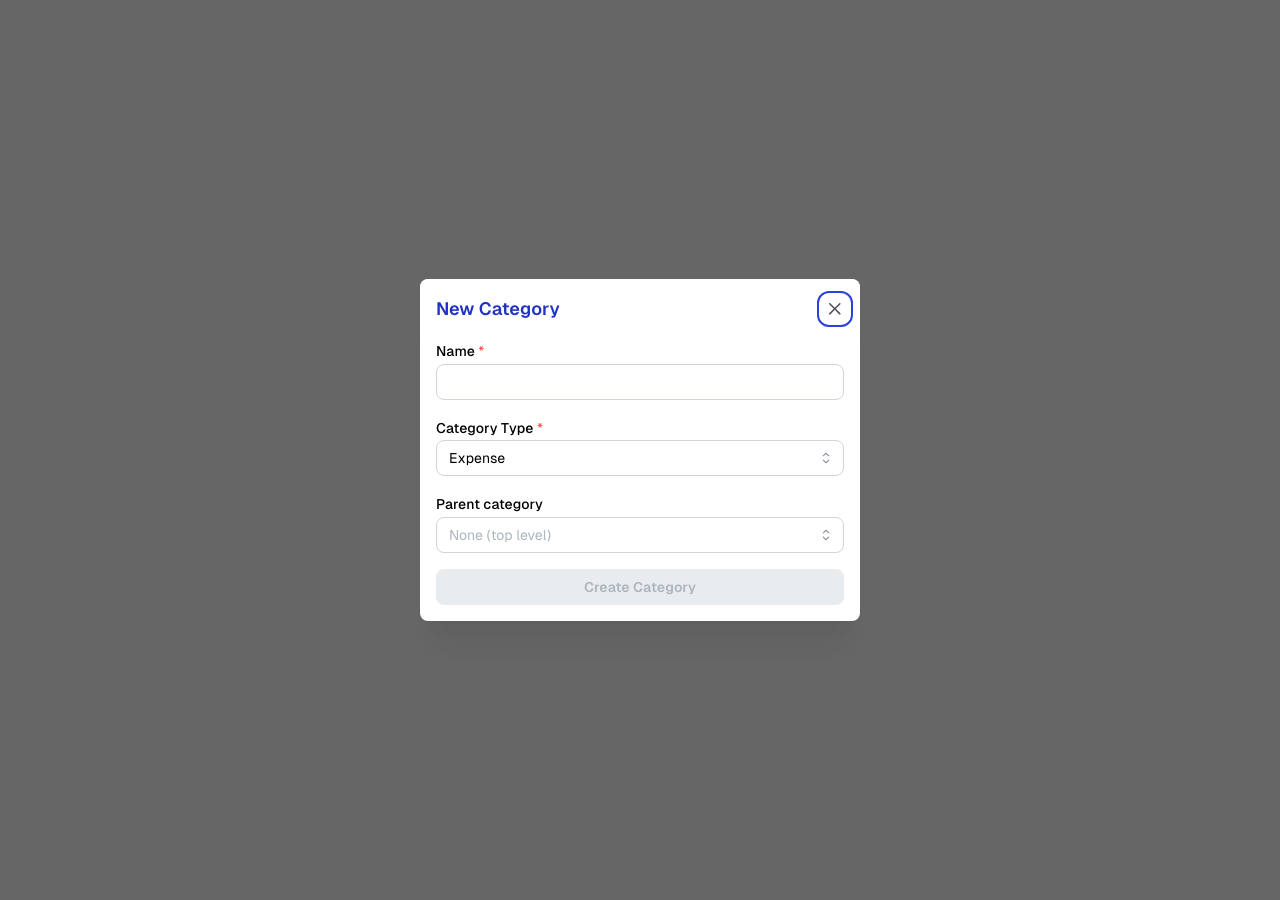
CreateCategoryModal › shows the server error and keeps the form open
The image size is (1280, 900).
In the field labelled "Name *": (640, 382) [436,364,844,400], type "Dup"
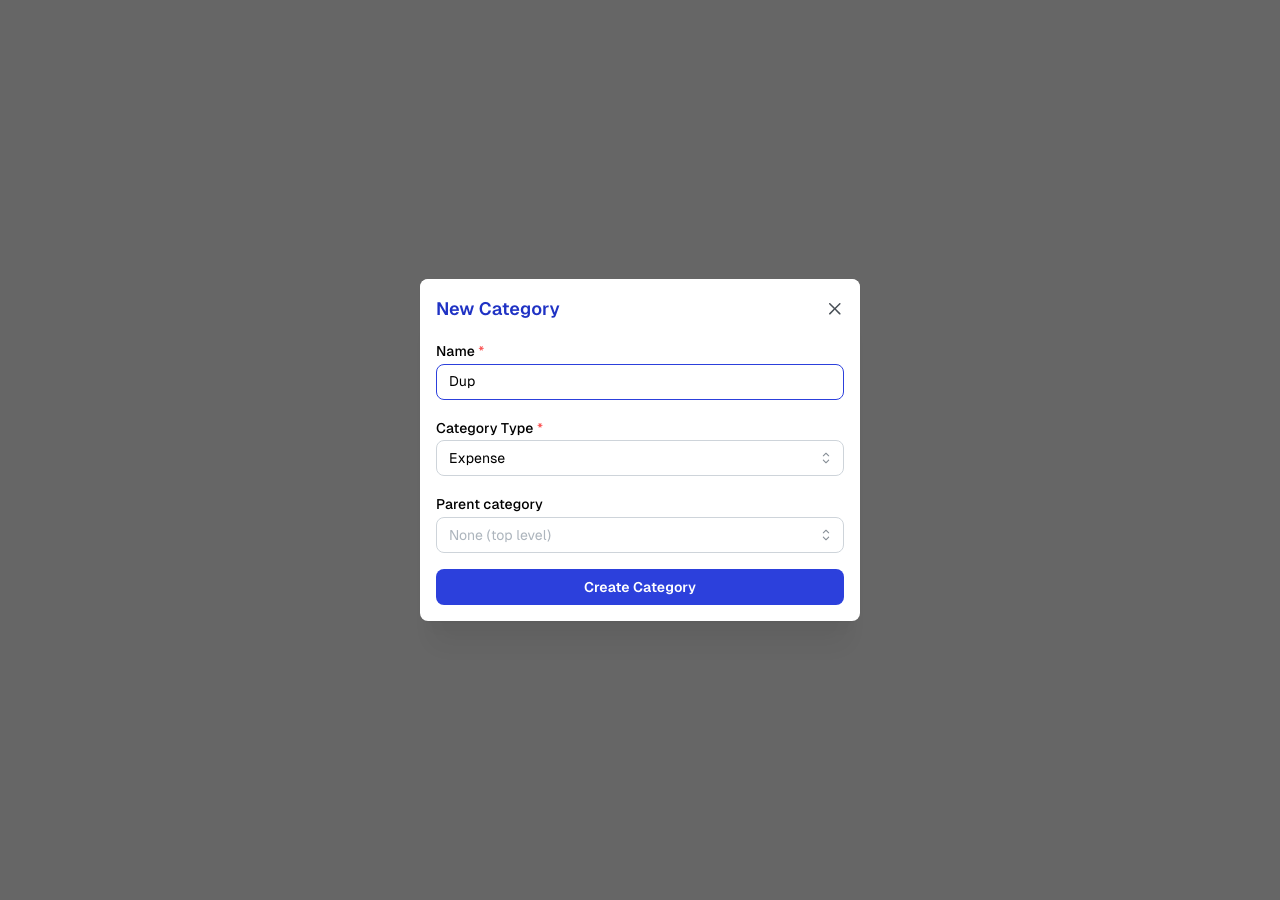
Click the button "Create Category": (640, 587) [436,569,844,605]
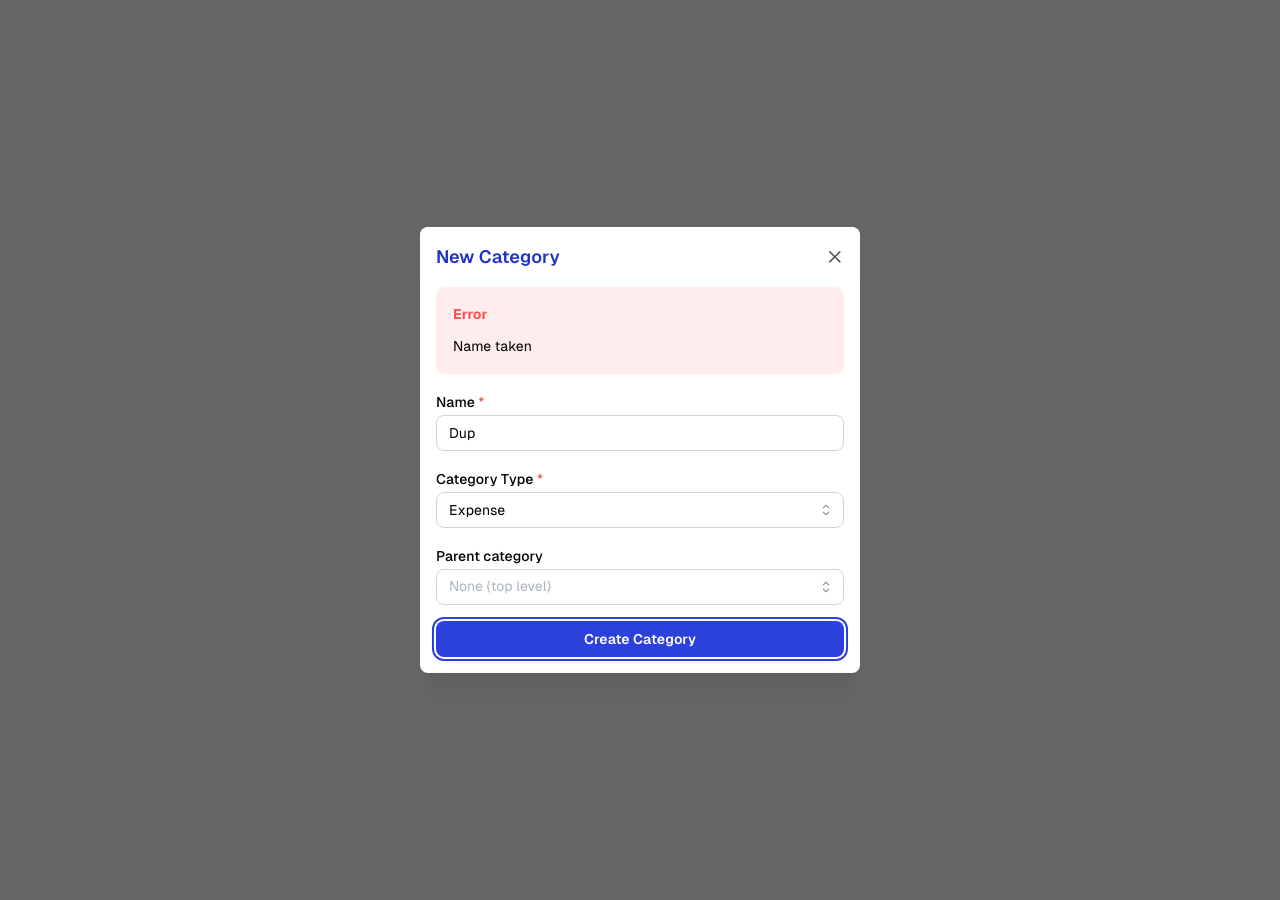
expect the text "Name taken" is shown: met, box [453,338,532,354]
